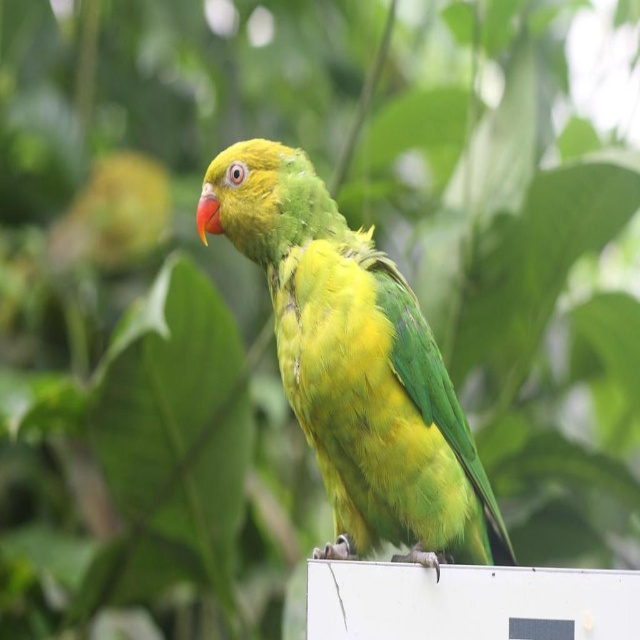Parrot: (196, 138, 518, 583)
